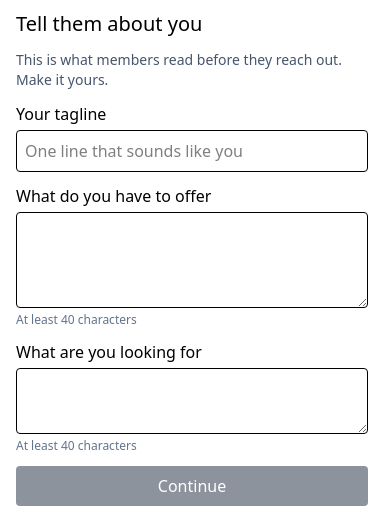
Scenario: BioStep › keeps Continue disabled until tagline and both bio fields meet the minimum
Check: the button "Continue" is disabled, box [16,466,368,506]
In the field labelled "Your tagline": (192, 151) [16,130,368,172], type "Curious and kind"
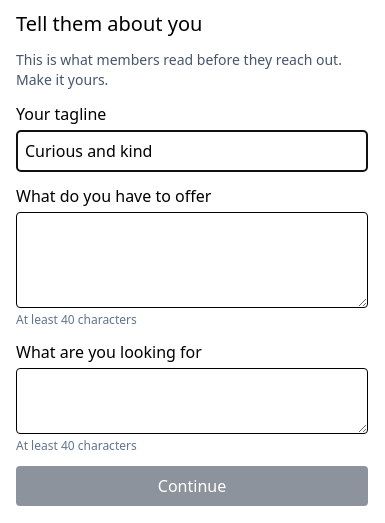
In the text box labelled "What do you have to offer At least 40 characters": (192, 260) [16,212,368,308], type "Genuine company, real conversation and a warm, easy presence for a generous partner."
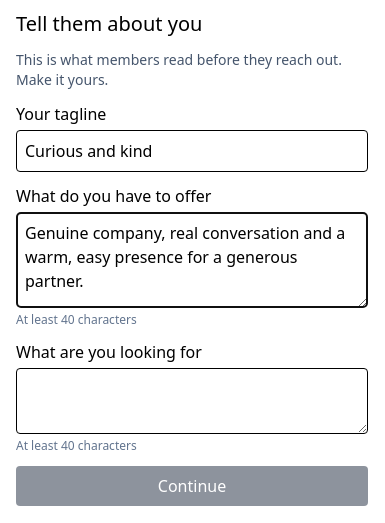
Check: the button "Continue" is disabled, box [16,466,368,506]
In the text box labelled "What are you looking for At least 40 characters": (192, 401) [16,368,368,434], type "A respectful, established partner who values discretion, kindness and time together."
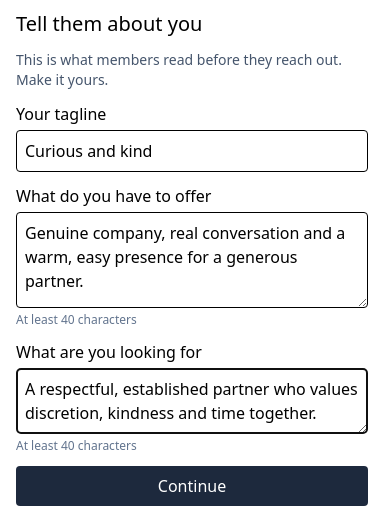
Check: the button "Continue" is enabled, box [16,466,368,506]
